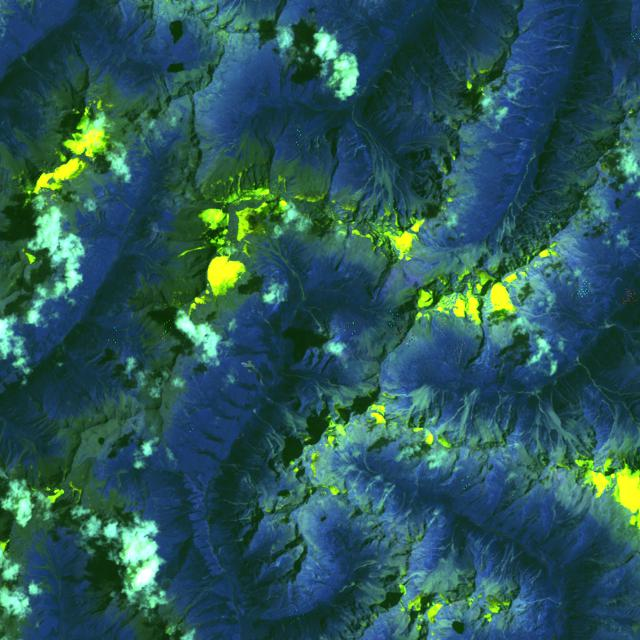landslides: (429, 2, 476, 79), (258, 227, 306, 298), (19, 54, 73, 109), (176, 582, 229, 623), (537, 389, 566, 454), (11, 126, 66, 159), (545, 403, 579, 456), (264, 395, 312, 432), (360, 132, 378, 212), (0, 140, 29, 187), (609, 314, 639, 359), (294, 301, 326, 342), (438, 388, 469, 430), (280, 408, 316, 444), (62, 577, 120, 599), (455, 386, 478, 439), (257, 413, 294, 445), (401, 177, 432, 214), (370, 133, 384, 214), (506, 85, 550, 110), (249, 129, 267, 188), (570, 104, 624, 123), (300, 111, 333, 142), (175, 526, 209, 555), (487, 534, 507, 583), (250, 419, 283, 448), (436, 212, 464, 246), (346, 174, 373, 209), (3, 572, 52, 591), (562, 120, 616, 137), (230, 464, 262, 492), (487, 123, 534, 142), (89, 44, 115, 78), (79, 222, 122, 242), (474, 536, 497, 573), (517, 569, 542, 601), (520, 191, 567, 208), (211, 495, 264, 510), (392, 161, 406, 216), (388, 489, 410, 522), (337, 52, 379, 69), (500, 105, 535, 125), (267, 205, 281, 255), (487, 395, 508, 428), (567, 98, 620, 111), (498, 543, 514, 586), (528, 206, 568, 223), (373, 484, 396, 513), (383, 162, 395, 217), (507, 79, 547, 95), (564, 429, 589, 454), (299, 573, 333, 591), (568, 122, 604, 139), (228, 524, 257, 545), (514, 563, 535, 592), (551, 169, 591, 184), (500, 397, 516, 434), (564, 375, 583, 406), (562, 122, 591, 142), (32, 563, 60, 583), (8, 565, 47, 579), (247, 132, 256, 192), (552, 138, 600, 149), (132, 144, 157, 165), (620, 176, 640, 202), (341, 144, 367, 164), (153, 71, 168, 105), (19, 318, 32, 357), (97, 197, 133, 211), (548, 173, 579, 189), (514, 64, 563, 74), (164, 75, 185, 98), (543, 416, 556, 453), (485, 393, 501, 423), (501, 92, 531, 108), (380, 315, 413, 329), (518, 12, 544, 29), (21, 86, 44, 105), (227, 513, 263, 525), (288, 404, 318, 418), (348, 522, 364, 548), (514, 36, 566, 44), (343, 26, 368, 42), (535, 411, 544, 453), (36, 543, 52, 566), (158, 76, 172, 102), (241, 359, 261, 377), (470, 390, 482, 420), (184, 70, 201, 89), (524, 597, 562, 605), (426, 407, 441, 427), (561, 381, 576, 401), (265, 435, 279, 456), (179, 72, 193, 93), (538, 186, 569, 195), (258, 0, 267, 29), (229, 0, 242, 20), (192, 68, 212, 81), (379, 124, 395, 140), (555, 386, 570, 403), (629, 170, 640, 193), (277, 393, 302, 403), (139, 130, 150, 152), (592, 299, 608, 314), (113, 51, 127, 68), (232, 558, 253, 569), (200, 31, 210, 54), (52, 533, 60, 561), (132, 3, 146, 18), (37, 306, 56, 317), (36, 546, 47, 565), (207, 39, 218, 58), (224, 0, 237, 16), (243, 476, 256, 492), (520, 120, 536, 133), (503, 617, 512, 640), (490, 113, 501, 131), (253, 547, 270, 558), (164, 439, 172, 462), (120, 0, 128, 23), (552, 501, 560, 522), (551, 4, 580, 9), (625, 346, 634, 362), (510, 207, 516, 231), (0, 414, 6, 437), (70, 307, 78, 324), (249, 444, 264, 453), (500, 177, 522, 183), (139, 457, 150, 468), (248, 434, 259, 445), (358, 0, 363, 24), (116, 469, 122, 489), (102, 184, 110, 198), (199, 66, 215, 73), (550, 386, 555, 408), (158, 452, 164, 470), (492, 622, 498, 640), (500, 355, 504, 381), (43, 595, 56, 603), (470, 0, 478, 13), (202, 61, 219, 67)
